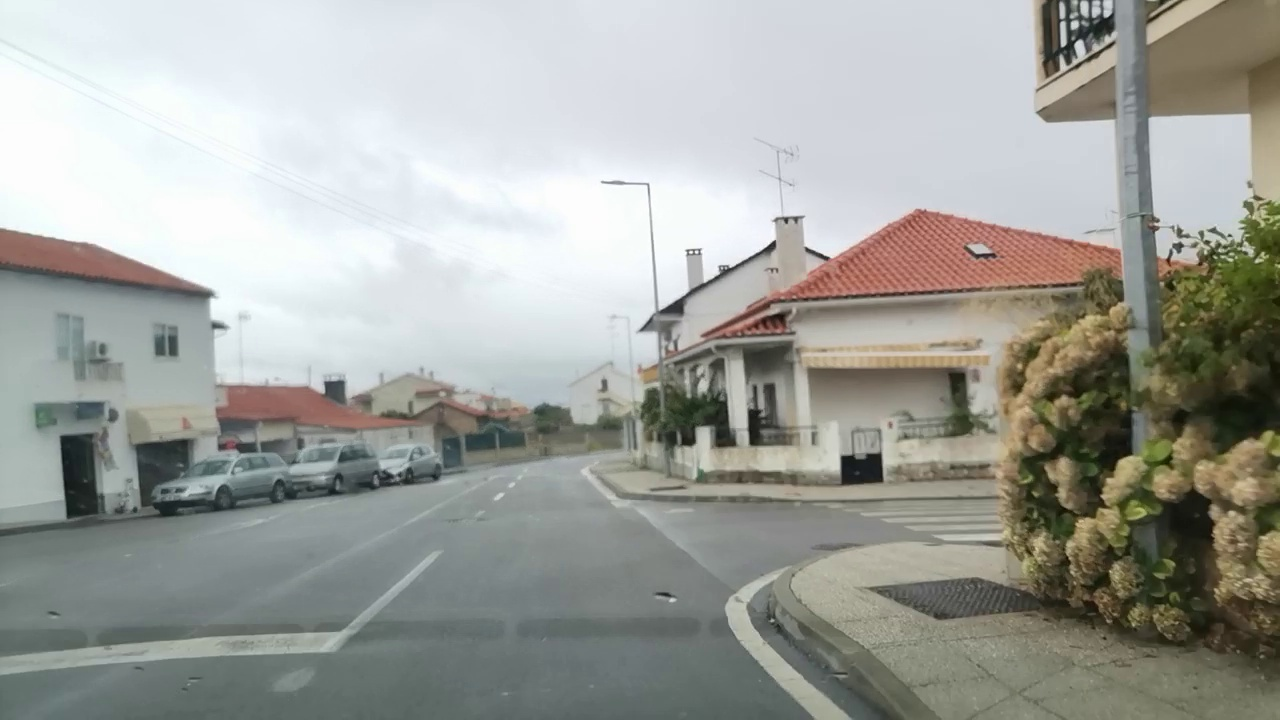Stairs: (862, 490, 1003, 547)
